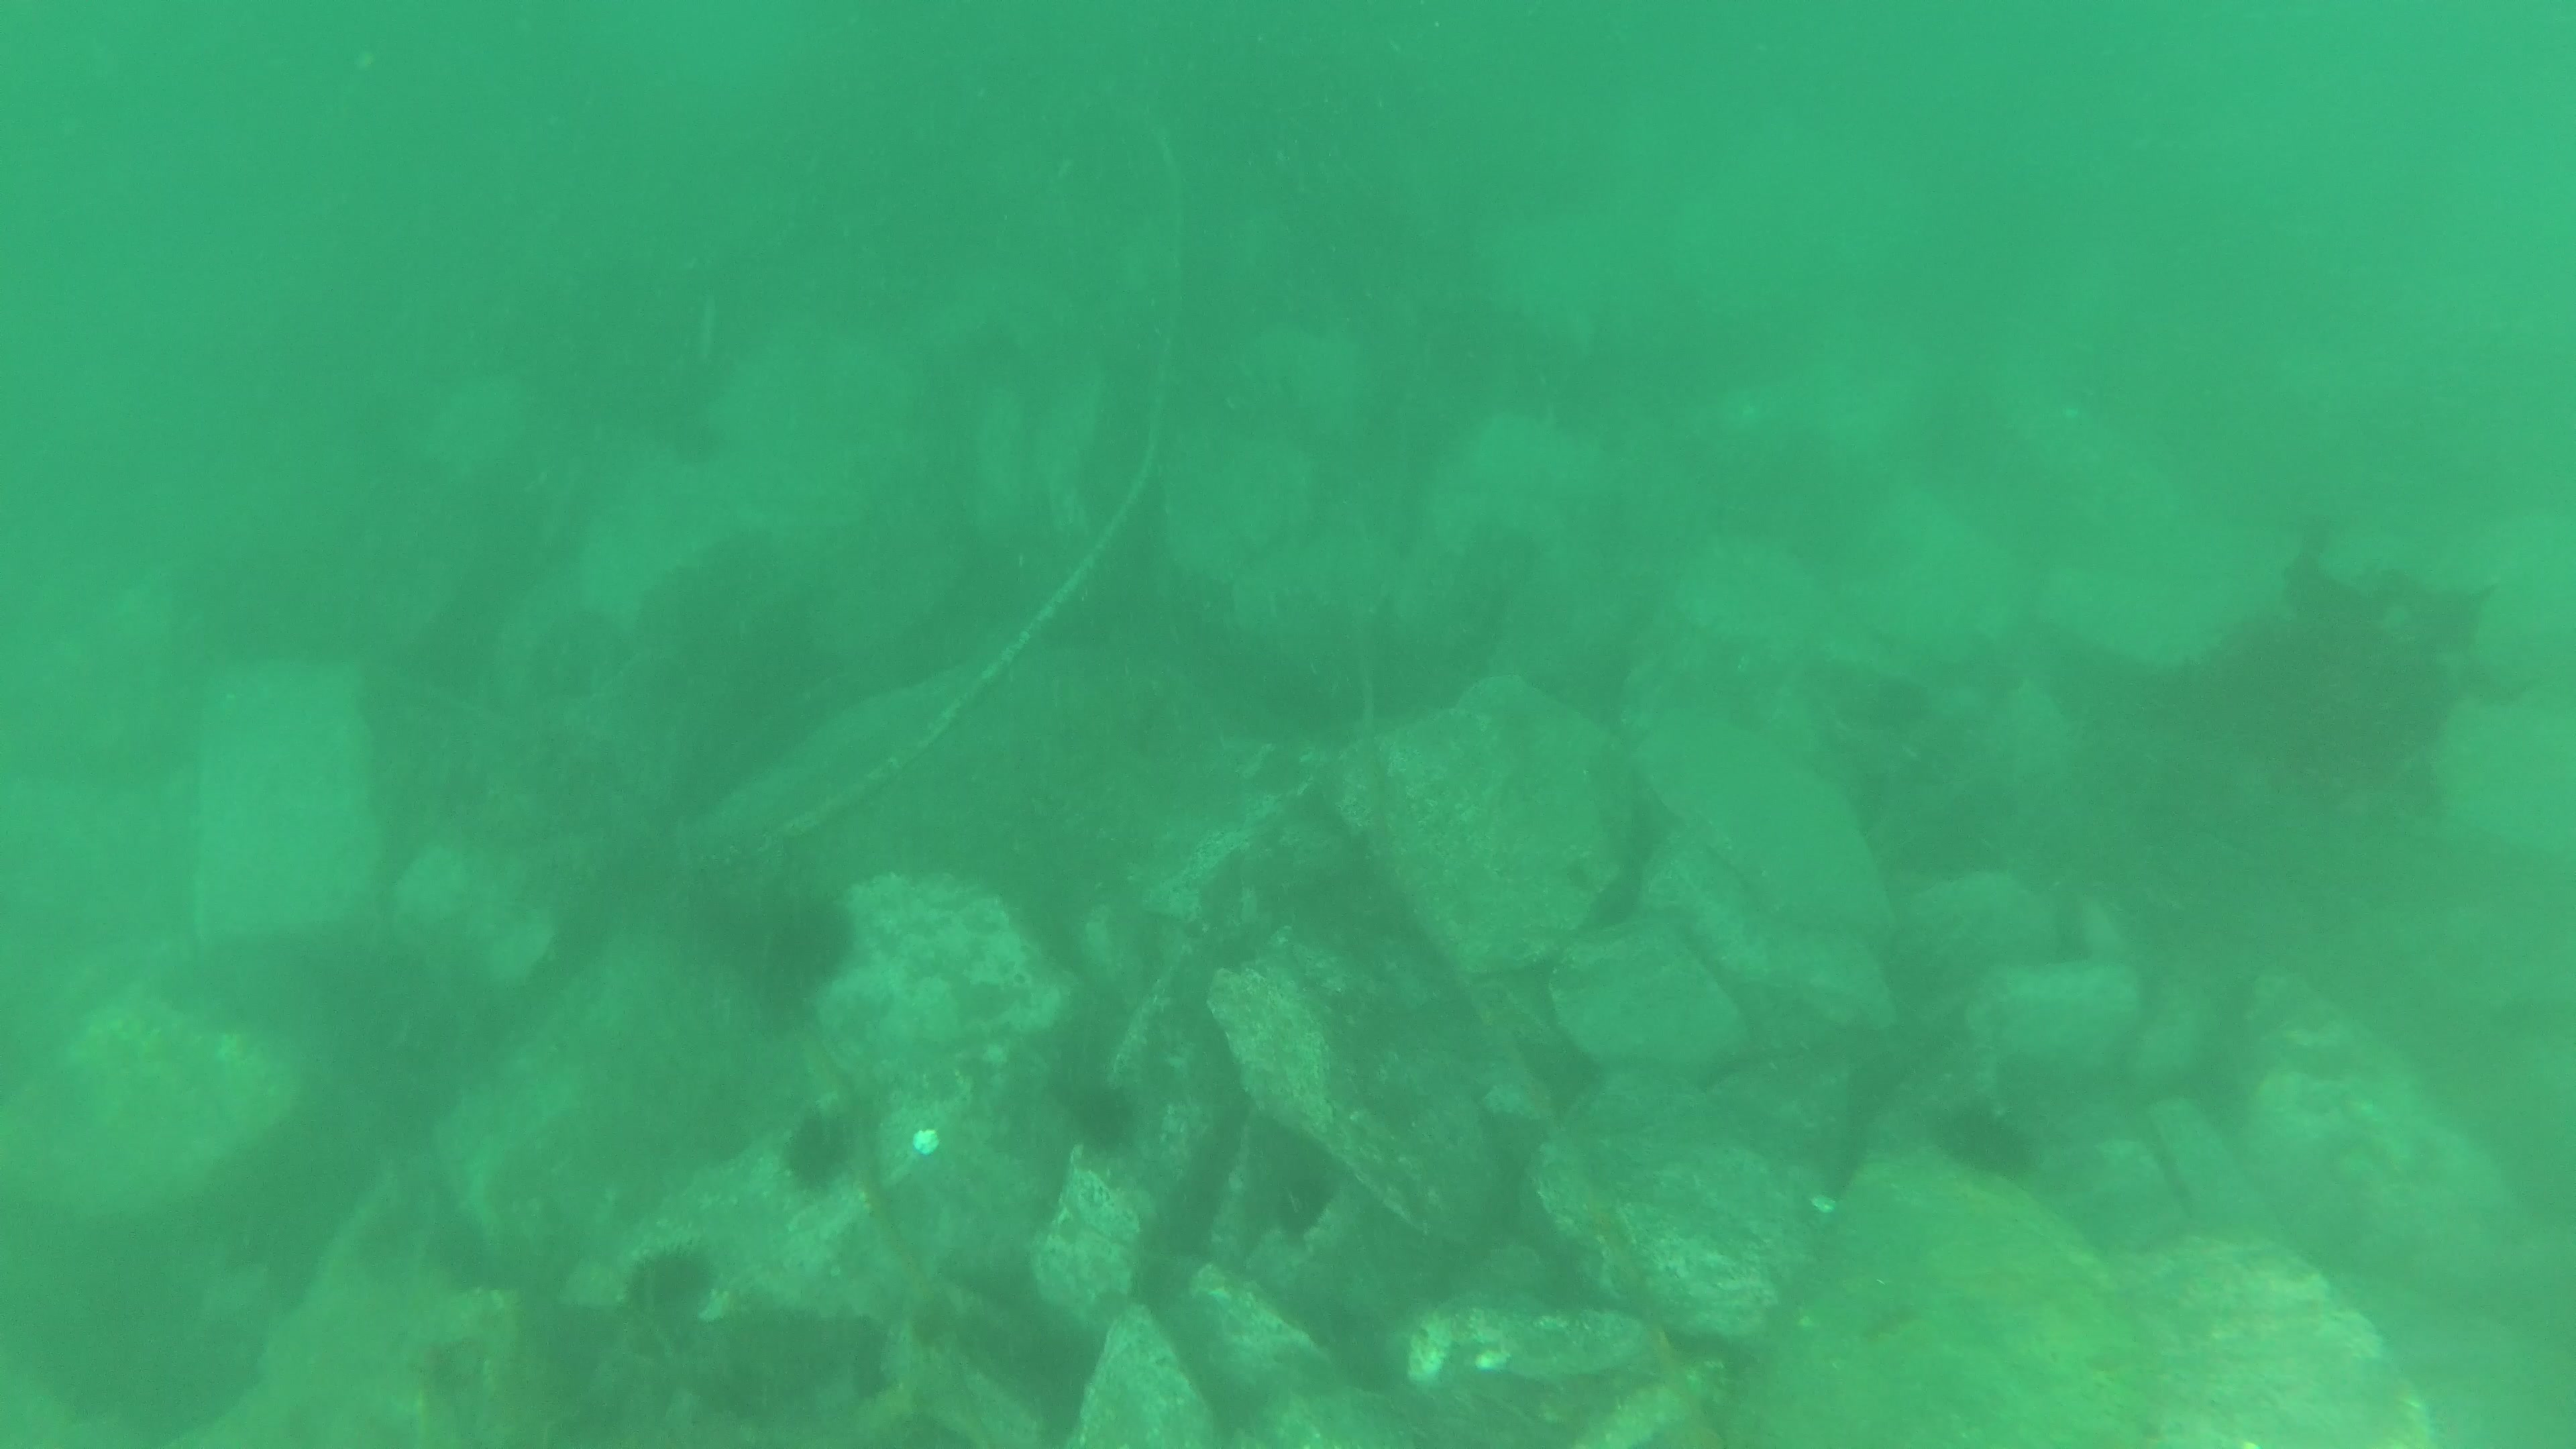echinus: (754, 883, 869, 1001), (1932, 1092, 2049, 1189), (603, 1233, 720, 1318), (782, 1109, 863, 1192), (1077, 1079, 1141, 1146)
